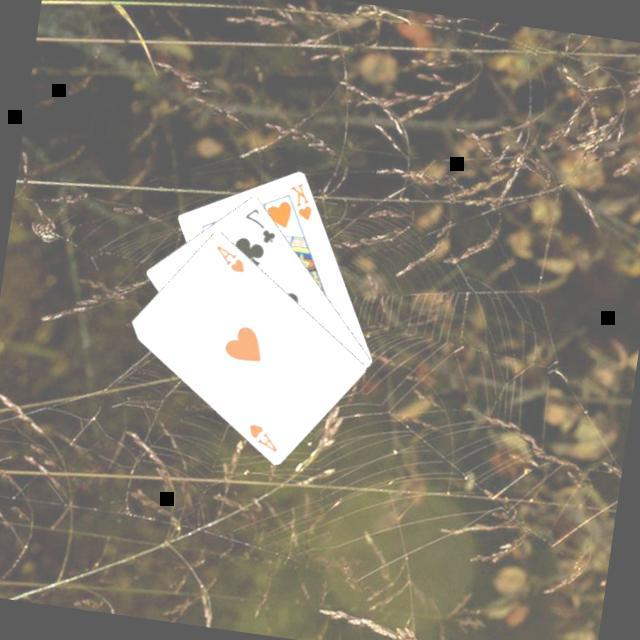7C: (240, 204, 284, 249)
AH: (244, 420, 286, 457), (211, 242, 253, 277)
KH: (284, 179, 322, 225)
